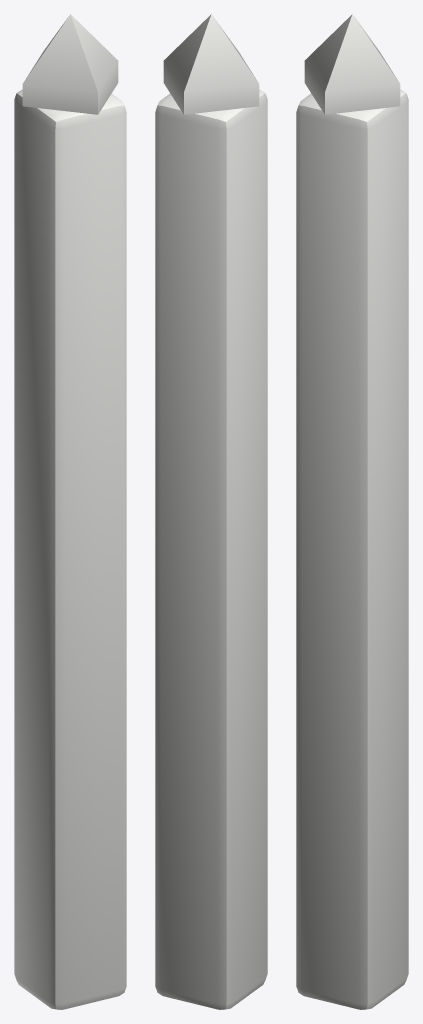
The model's file is cerca_madeira_fim.glb.
The picture shows the model from 3 angles, left to right: view 1: azimuth 30°, elevation 25°; view 2: azimuth 150°, elevation 25°; view 3: azimuth 330°, elevation 25°; orthographic projection.
Visible parts, largest first — view 1: cerca_madeira_fim; view 2: cerca_madeira_fim; view 3: cerca_madeira_fim.
Part boxes in pixels (left/top/right/bottom): cerca_madeira_fim: left=14, top=14, right=126, bottom=1009; cerca_madeira_fim: left=155, top=14, right=267, bottom=1009; cerca_madeira_fim: left=296, top=14, right=408, bottom=1009.
Bounding box in the file's own units: 0.1116 × 1.09 × 0.1116.
1 material, 1 textured.
